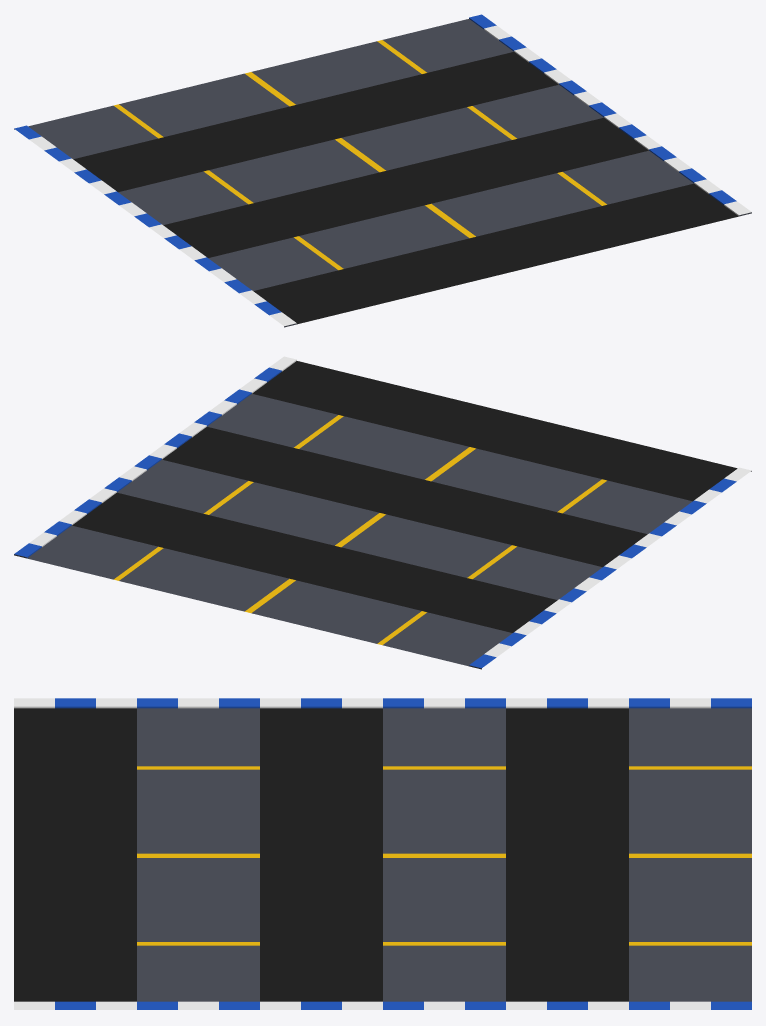
Rendered from Piece of road (1).fbx.
3 renders of one model, top to bottom at view 1: azimuth 30°, elevation 25°; view 2: azimuth 150°, elevation 25°; view 3: azimuth 270°, elevation 25°, orthographic. The views are drawn at different scales.
Parts seen in each view (by area): view 1: Plane.001; view 2: Plane.001; view 3: Plane.001.
Boxes of the visible parts, left/top/right/bottom form: Plane.001: left=14, top=14, right=751, bottom=327; Plane.001: left=14, top=356, right=751, bottom=669; Plane.001: left=14, top=698, right=751, bottom=1009.
Bounding box in the file's own units: 4.2 × 0.0105 × 4.2.
